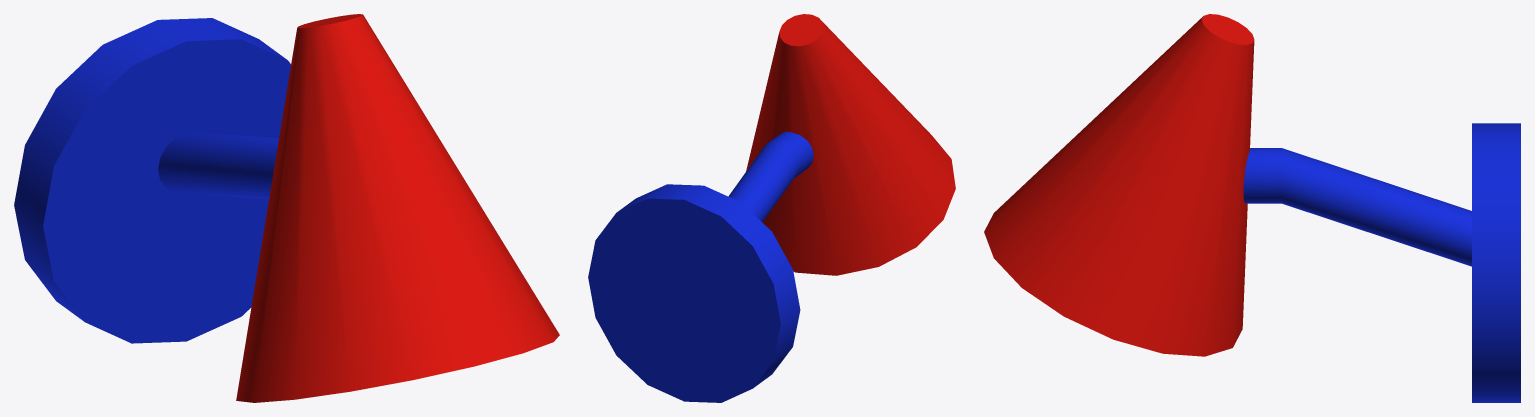
Rendered from duvarLambasi.fbx.
3 renders of one model, left to right at view 1: azimuth 30°, elevation 25°; view 2: azimuth 150°, elevation 25°; view 3: azimuth 270°, elevation 25°, orthographic. The views are drawn at different scales.
Visible parts, largest first — view 1: duvarLambasi; view 2: duvarLambasi; view 3: duvarLambasi.
Part boxes in pixels (box(x1,y1,x2,y2)): duvarLambasi: box(14, 14, 559, 402); duvarLambasi: box(588, 14, 955, 402); duvarLambasi: box(984, 14, 1520, 402).
Size of the model in its own units: 40.11 by 58.32 by 76.7.
